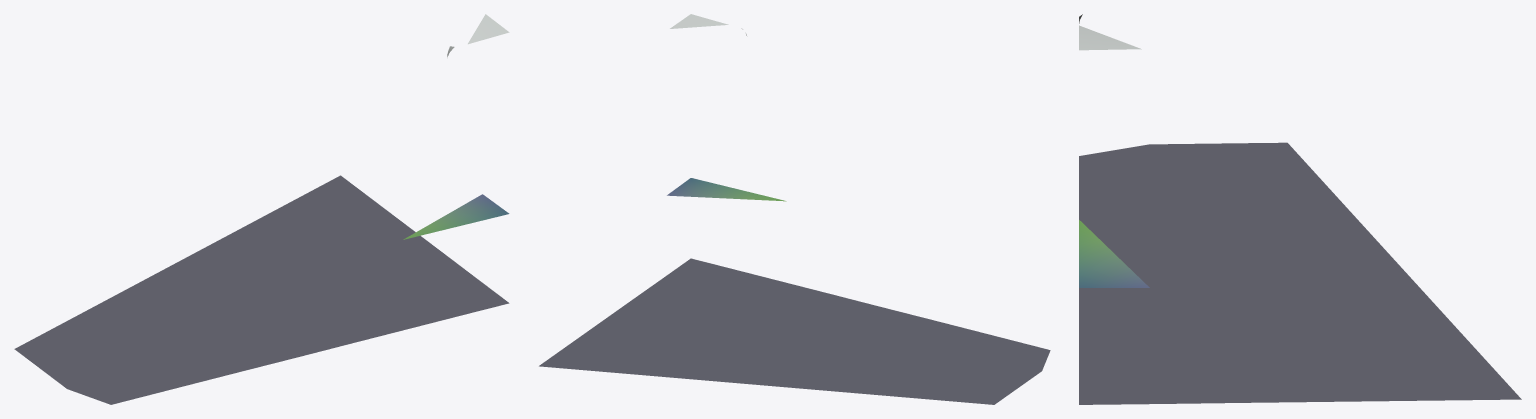
3 views of the same model, side by side, from view 1: azimuth 30°, elevation 25°; view 2: azimuth 150°, elevation 25°; view 3: azimuth 270°, elevation 25° (orthographic). The views are drawn at different scales.
Visible parts, largest first — view 1: G:\FFXIV-MapTools\exports\r2f1\bg\ex1\01_roc_r2\fld\r2f1\bgp (×3); view 2: G:\FFXIV-MapTools\exports\r2f1\bg\ex1\01_roc_r2\fld\r2f1\bgp (×2); view 3: G:\FFXIV-MapTools\exports\r2f1\bg\ex1\01_roc_r2\fld\r2f1\bgp (×3).
Boxes of the visible parts, box(x1,y1,x2,y2) form: G:\FFXIV-MapTools\exports\r2f1\bg\ex1\01_roc_r2\fld\r2f1\bgp (×3): box(14, 14, 509, 404); G:\FFXIV-MapTools\exports\r2f1\bg\ex1\01_roc_r2\fld\r2f1\bgp (×2): box(539, 178, 1050, 404); G:\FFXIV-MapTools\exports\r2f1\bg\ex1\01_roc_r2\fld\r2f1\bgp (×3): box(1079, 25, 1521, 404).
Bounding box in the file's own units: 128 × 81.22 × 90.14.
